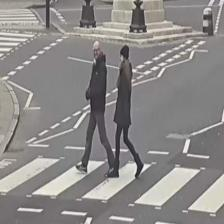person: (75, 41, 116, 177), (108, 45, 143, 177)
